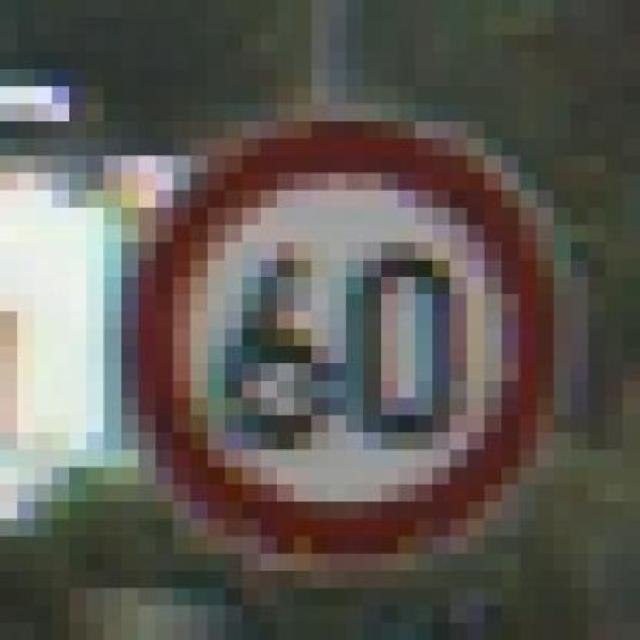forb_speed_over_60: (125, 122, 552, 559)
